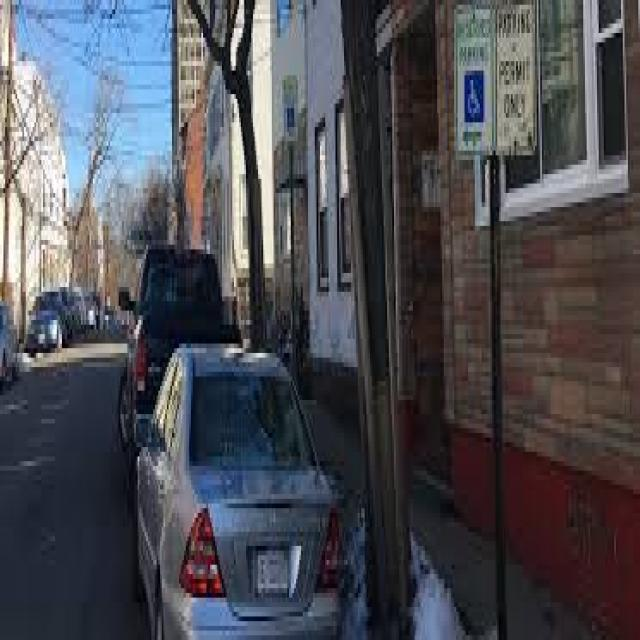symbol_of_access: (466, 72, 484, 120)
